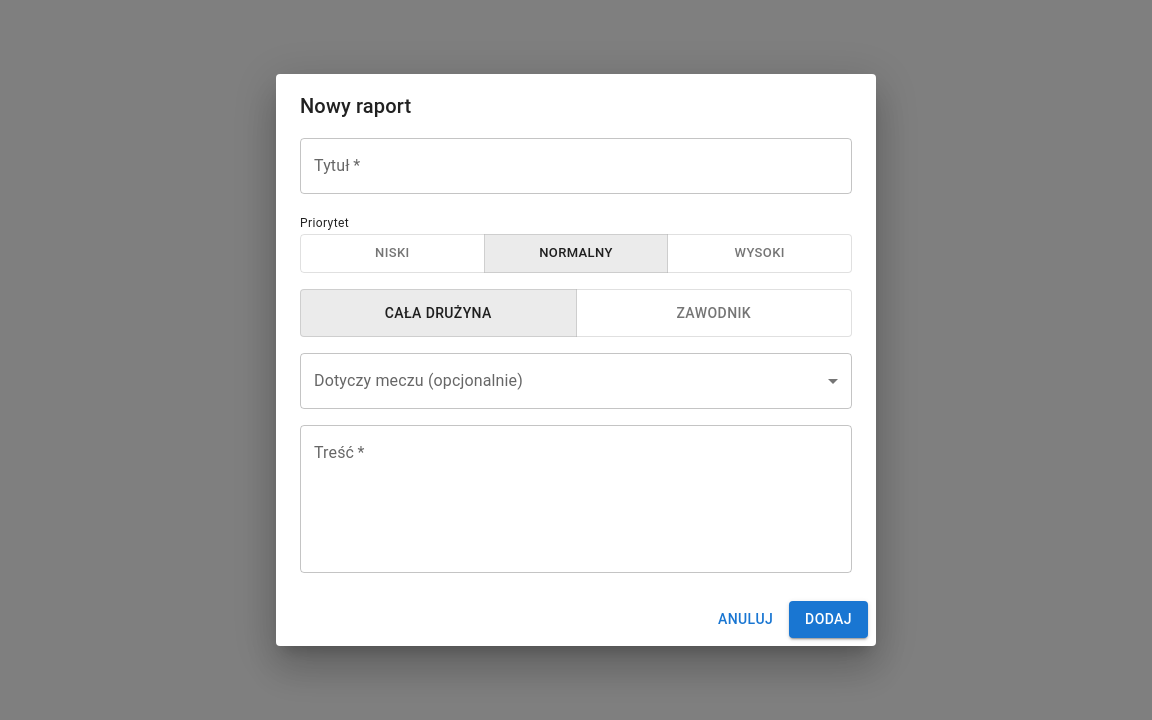
Test: new report › lists the active players ordered by last name
The image size is (1152, 720).
Step 1. Click the button "Zawodnik" → [714, 313], box [576,289,852,337]
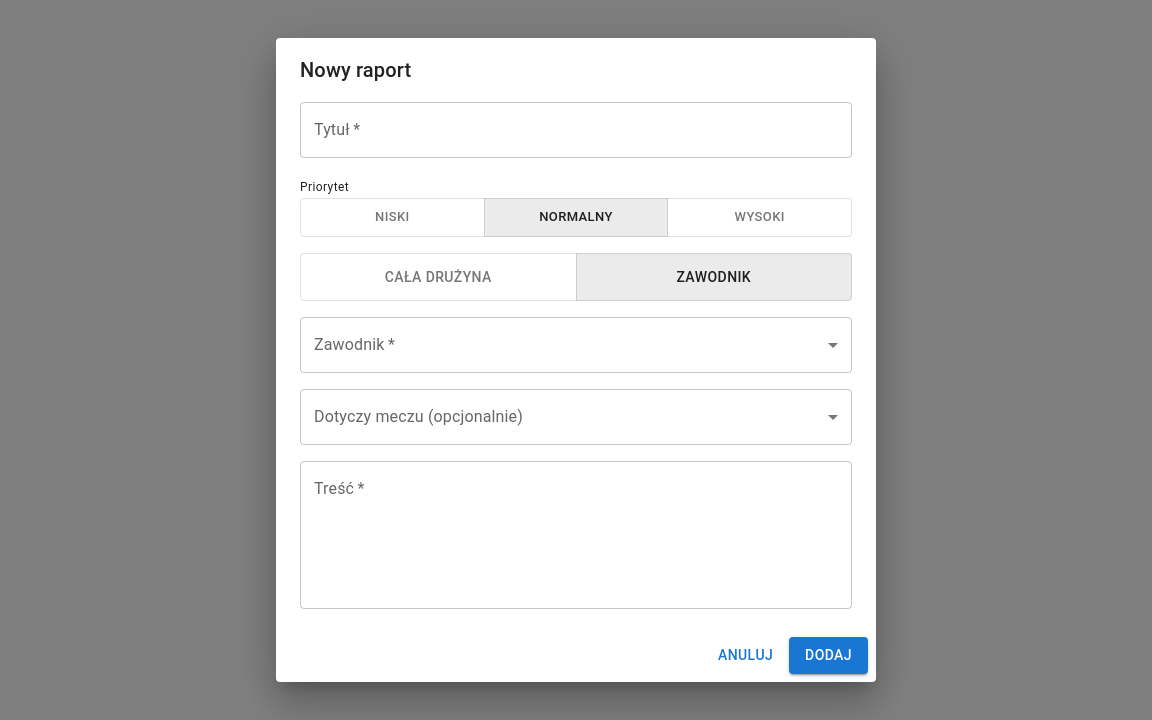
Step 2. Click the 1st dropdown named "Zawodnik" → [576, 345], box [300,317,852,373]
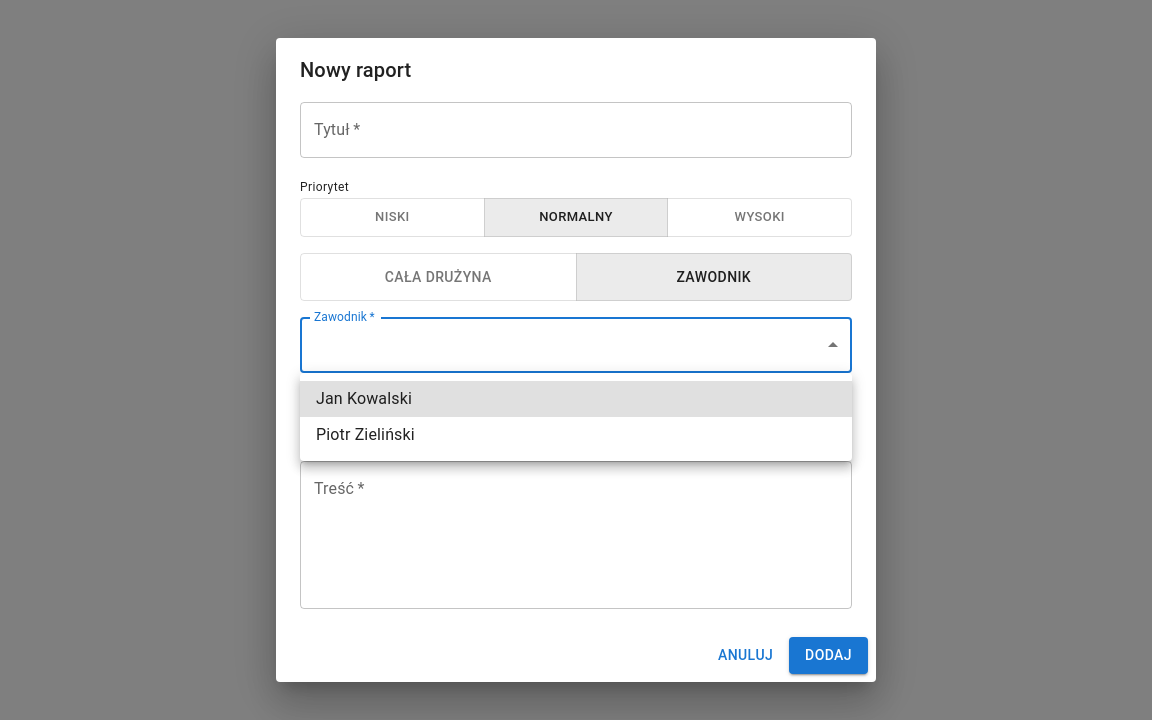
Expected: the options read "Jan Kowalski", "Piotr Zieliński", in this order, [300,381,852,417]; [316,425,415,444]
